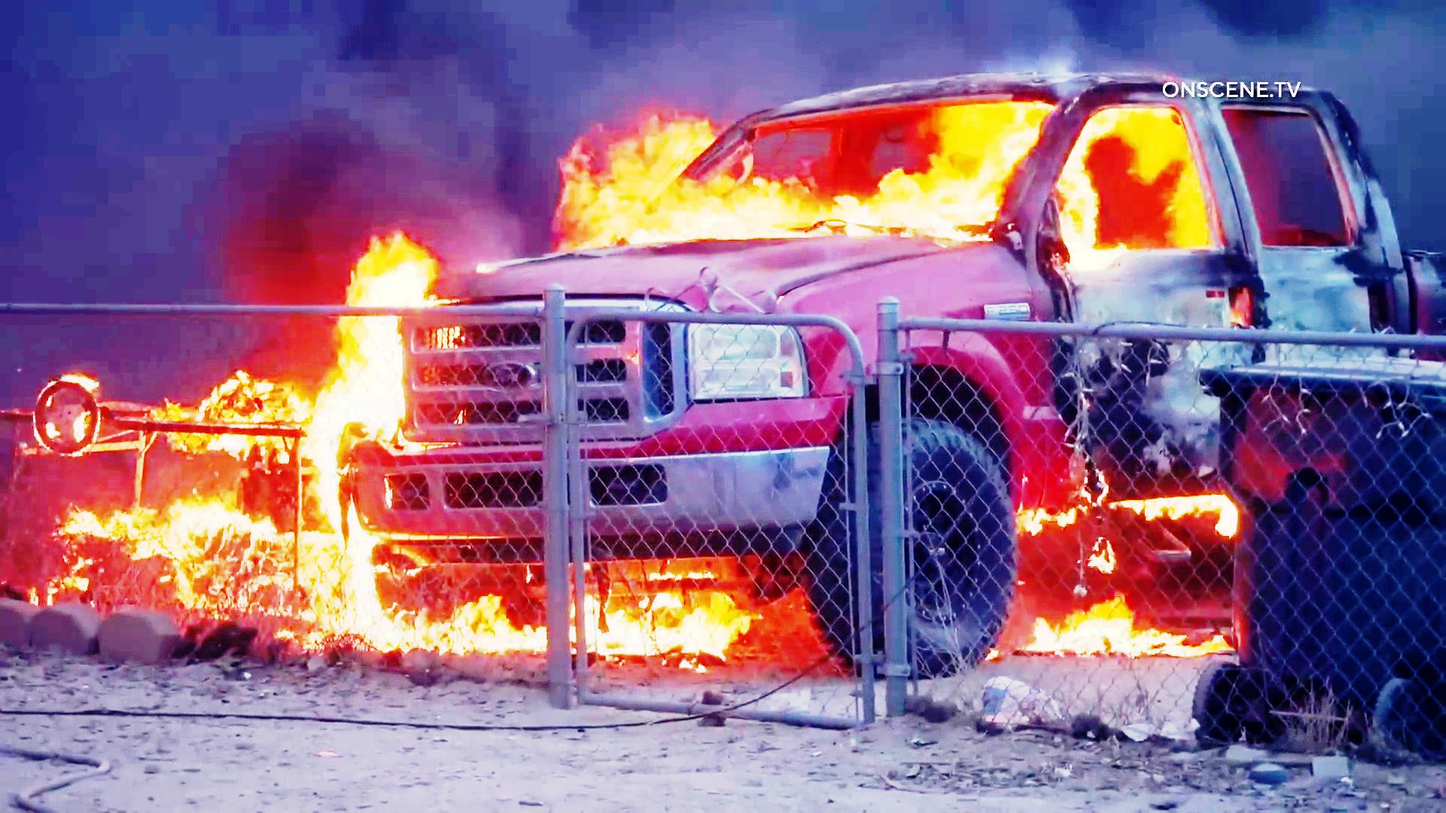fire: (298, 266, 439, 651), (725, 117, 998, 259), (1046, 115, 1211, 253), (542, 123, 712, 249)
smoke: (28, 0, 529, 174)
